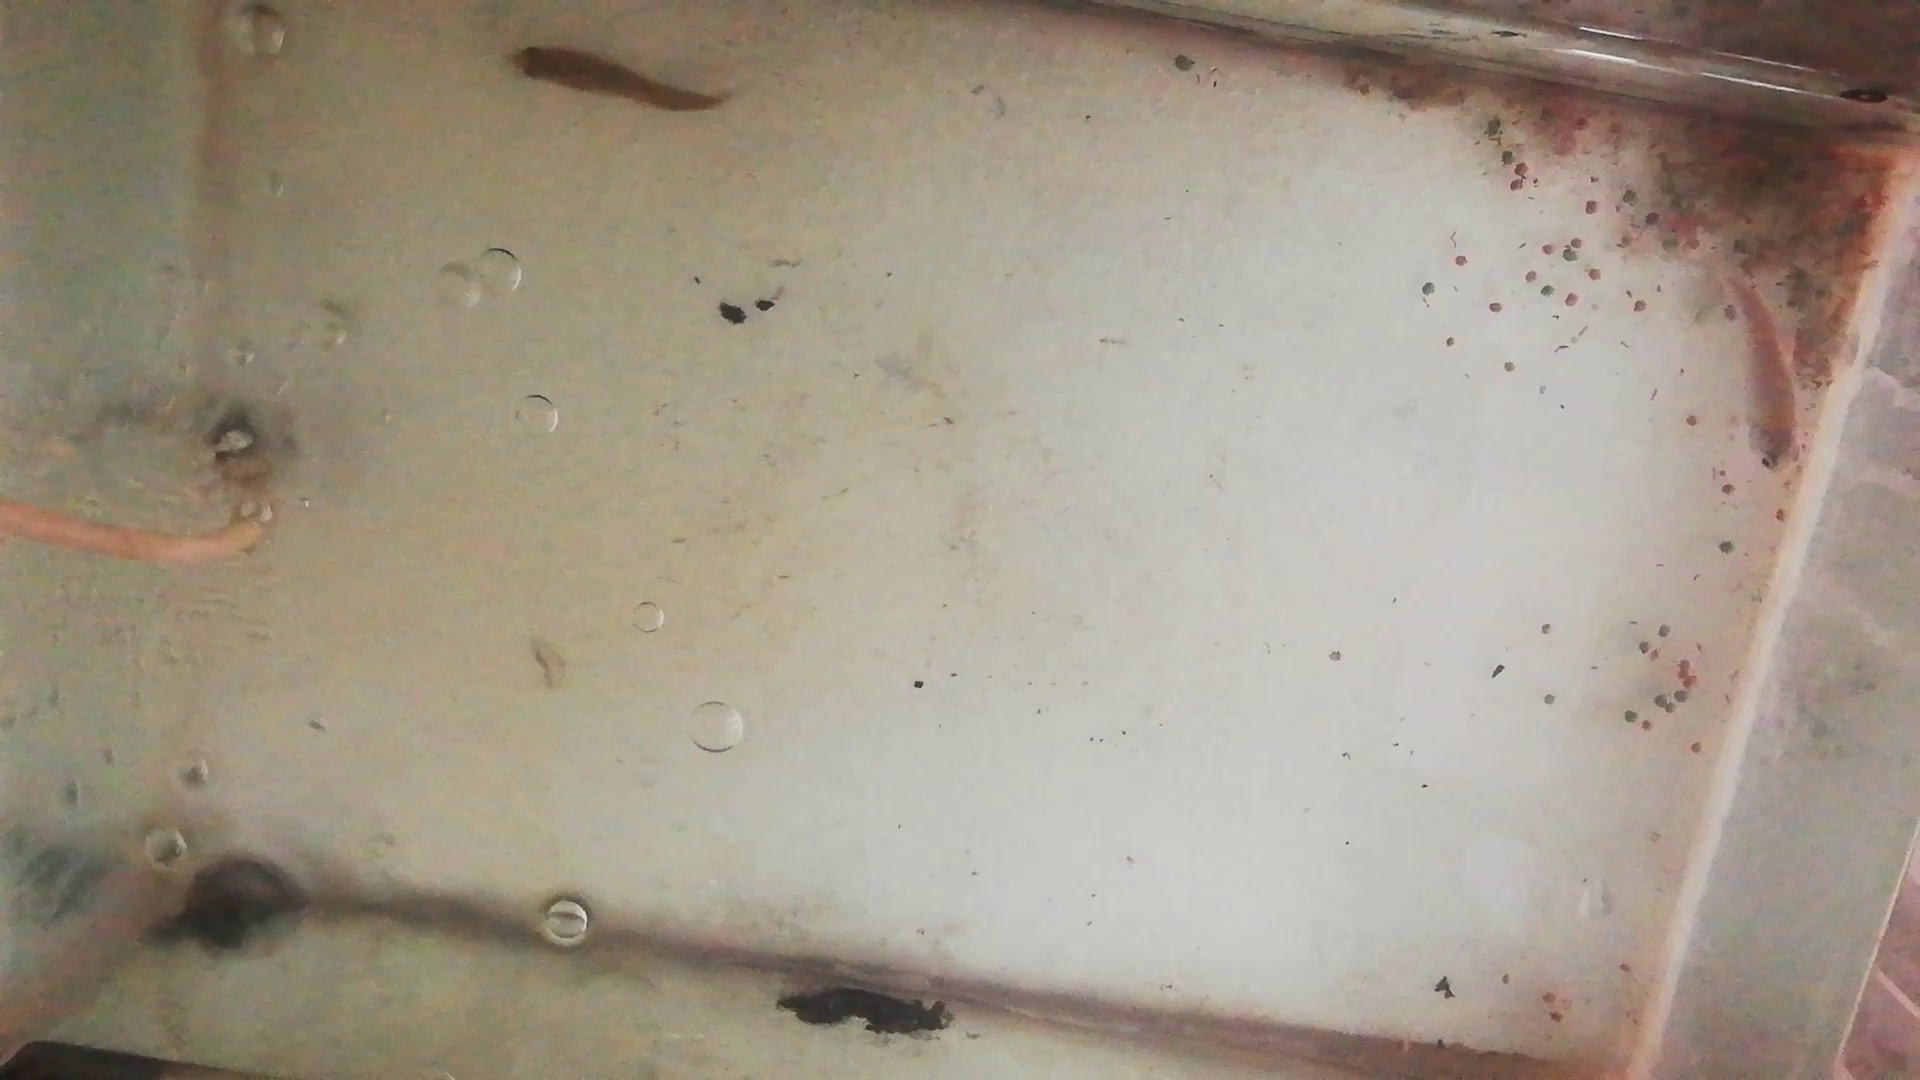fish: (509, 42, 719, 132), (1731, 268, 1796, 475)
